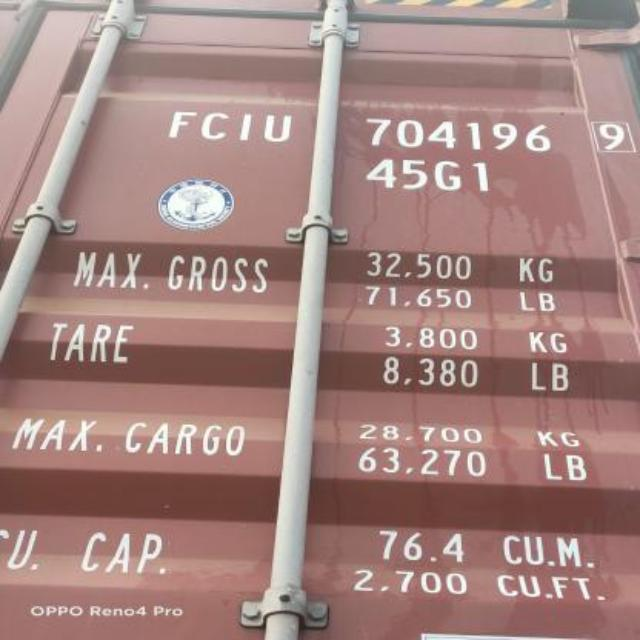0: (393, 114, 423, 150)
1: (460, 114, 488, 156)
4: (428, 110, 458, 154)
6: (525, 115, 551, 158)
7: (364, 114, 392, 148)
9: (592, 122, 636, 154), (488, 114, 516, 154)
C: (200, 106, 230, 144)
F: (165, 104, 197, 140)
I: (238, 104, 252, 146)
U: (262, 108, 294, 146)
